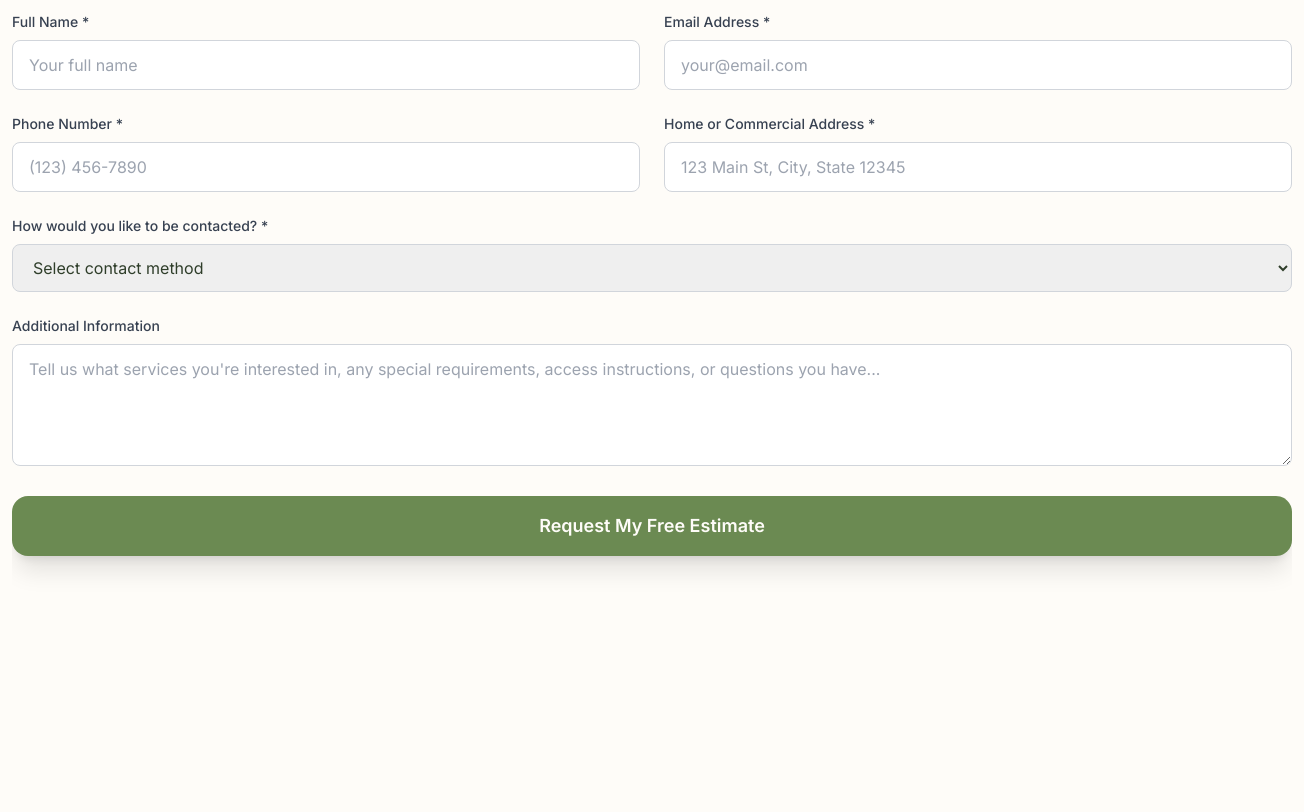
ContactForm › shows success message for contact variant after submission
Fill out required fields
In the field labelled "Full Name *": (326, 65) [12,40,640,90], type "John Doe"
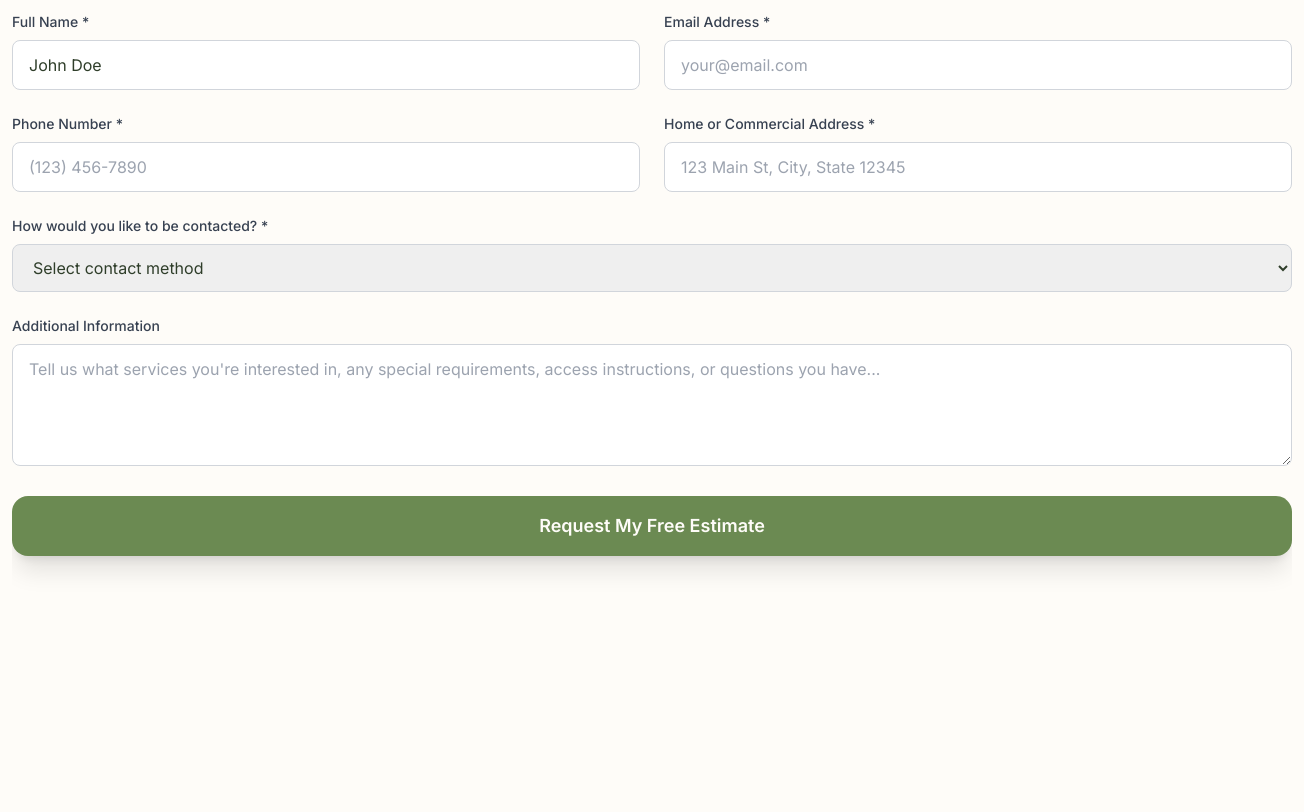
In the field labelled "Email Address *": (978, 65) [664,40,1292,90], type "john@example.com"
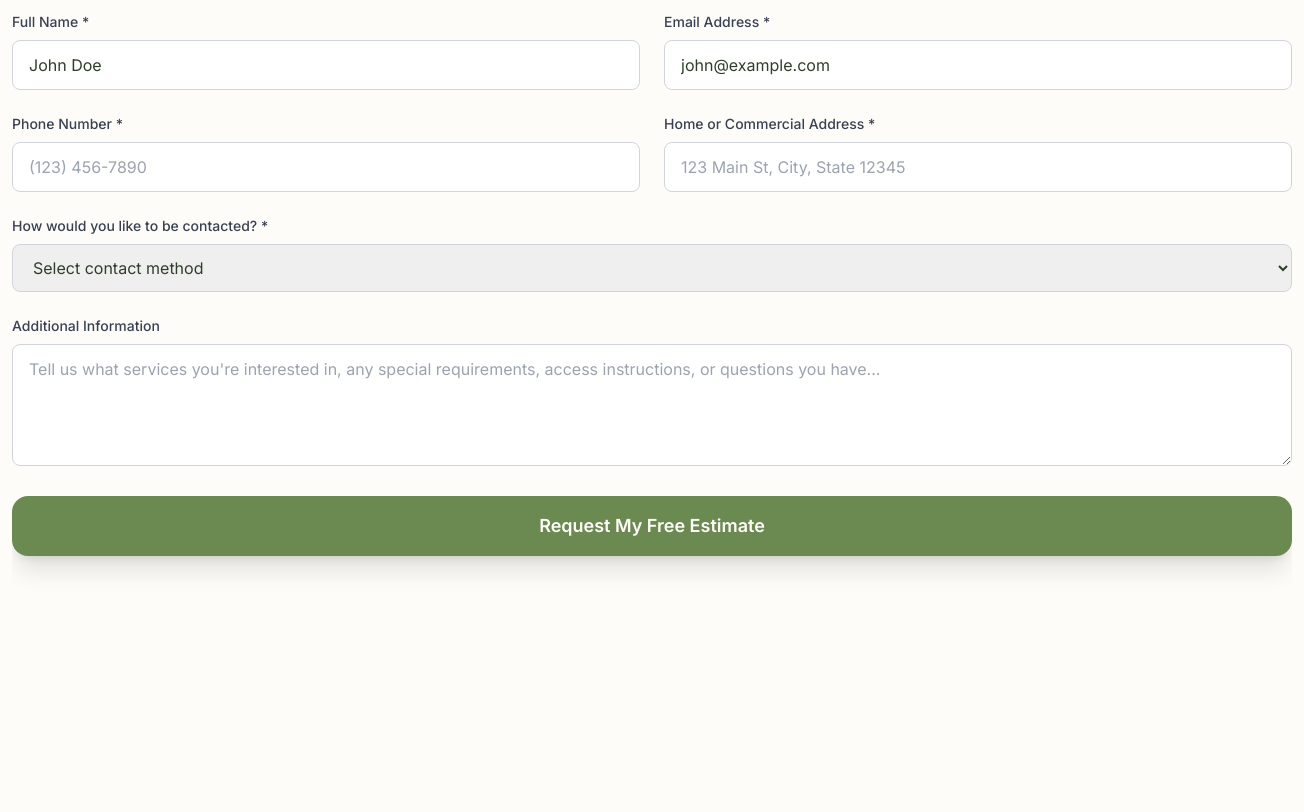
In the field labelled "Phone Number *": (326, 167) [12,142,640,192], type "(555) 123-4567"
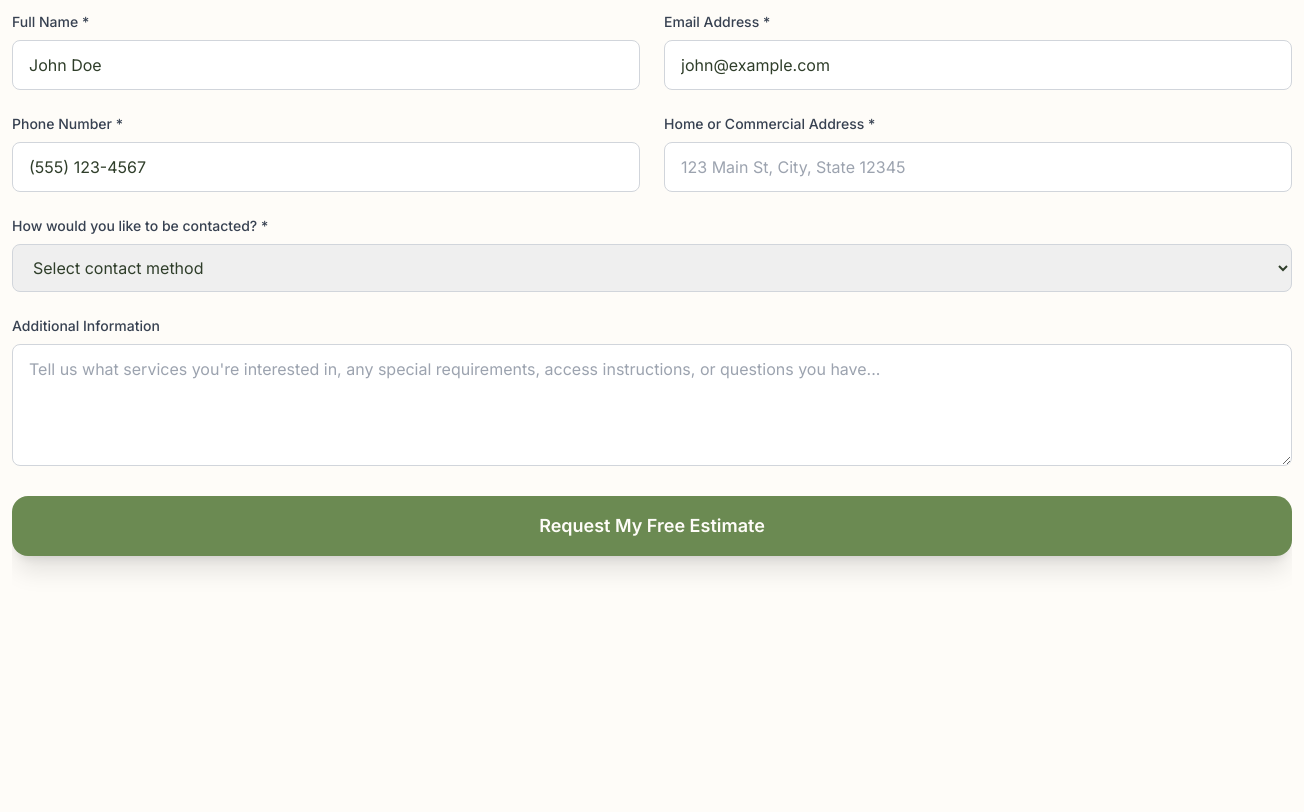
In the field labelled "Home or Commercial Address *": (978, 167) [664,142,1292,192], type "123 Main St"
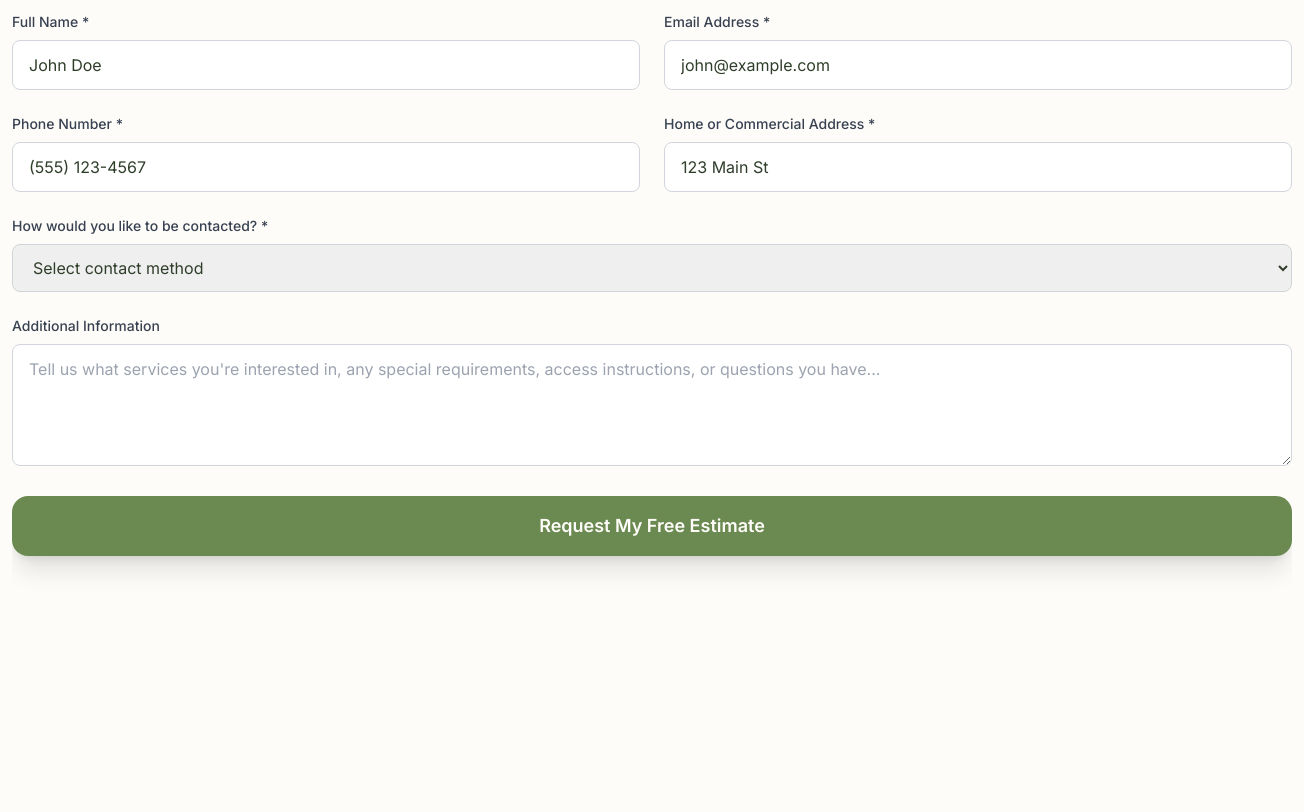
Select "Call" in the dropdown labelled "How would you like to be contacted? *": (652, 268) [12,244,1292,292]
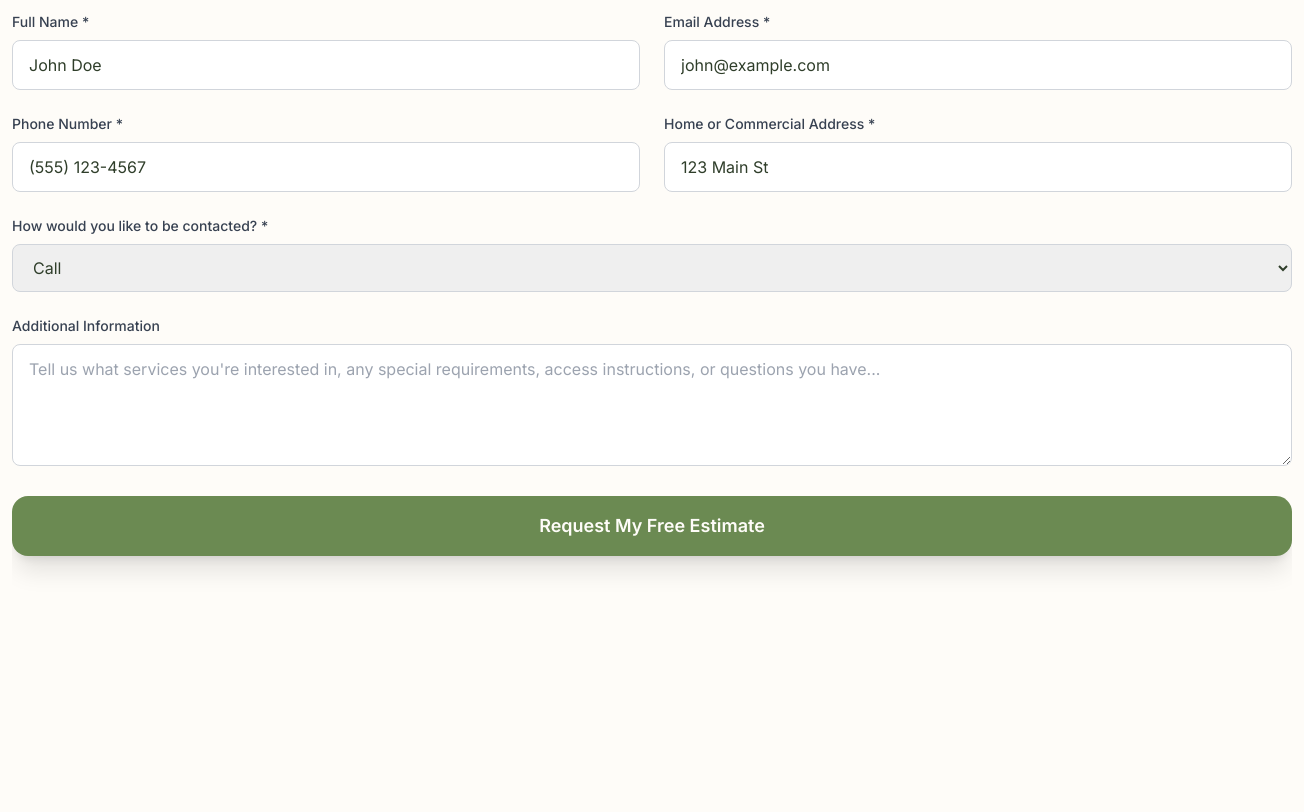
Submit the form
Click the button "Request My Free Estimate": click(652, 526) [12,496,1292,556]
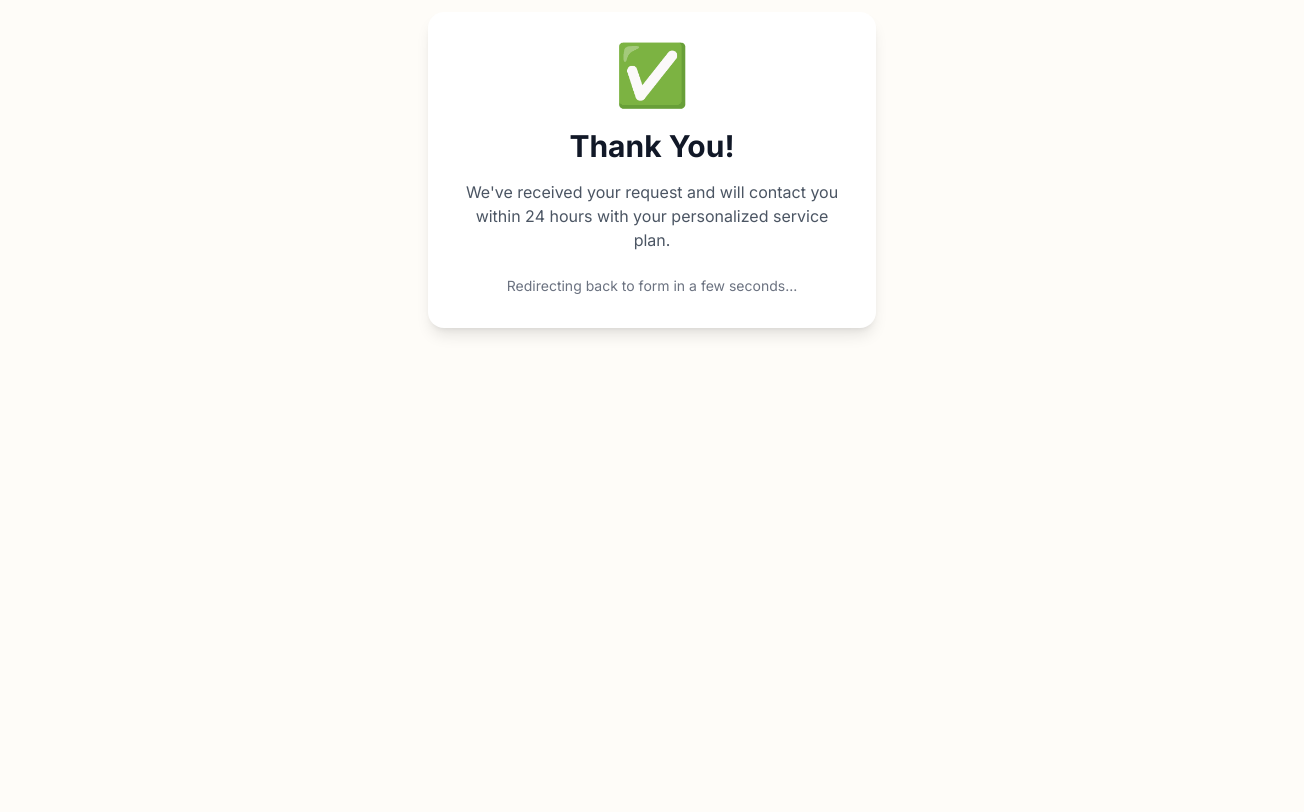
Now the heading "Thank You!" is shown, box [569,128,735,164]
Now the text "We've received your request" is shown, box [466,182,838,250]
